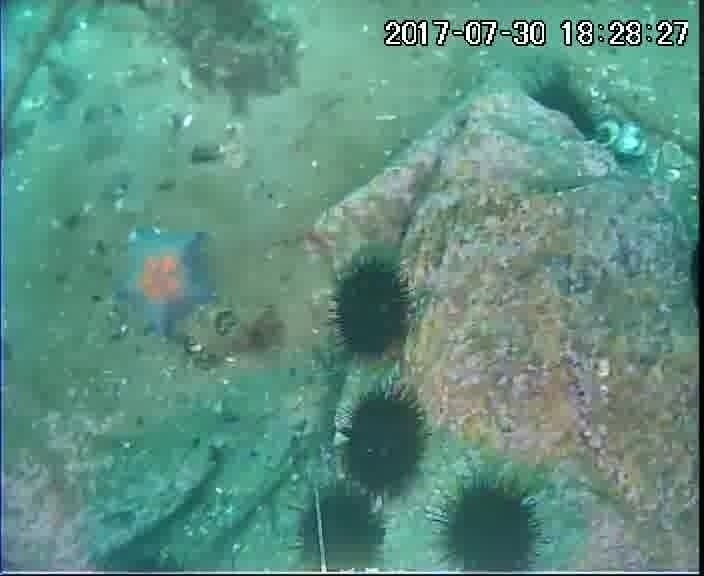echinus: (433, 475, 546, 571), (336, 385, 431, 499), (327, 255, 417, 361), (293, 484, 391, 570), (524, 73, 605, 146)
starfish: (109, 228, 218, 340)
